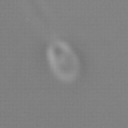normal: (24, 1, 60, 41)
